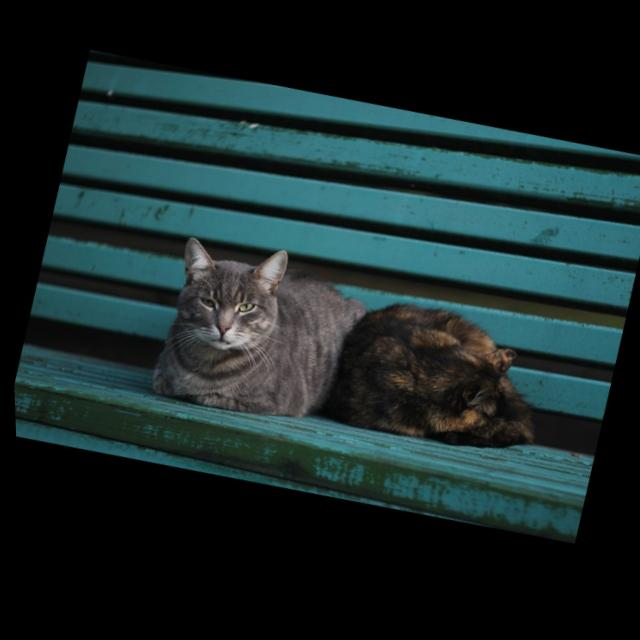animals: (145, 241, 366, 424), (303, 310, 530, 457)
